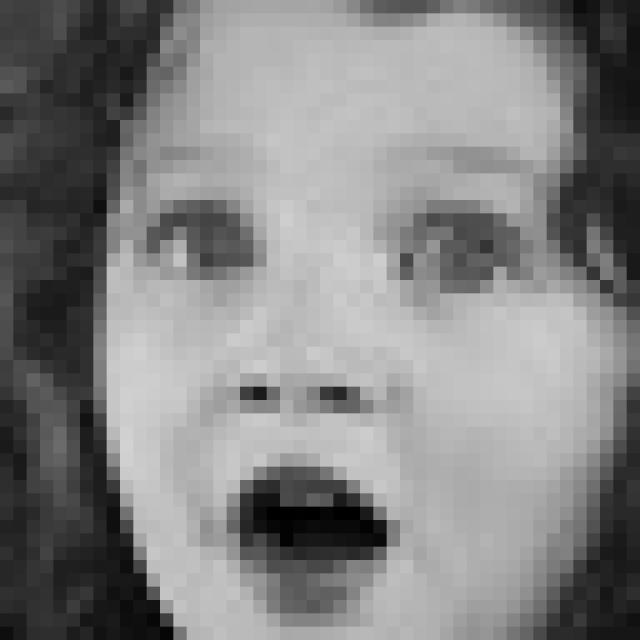surprise: (135, 130, 560, 632)
